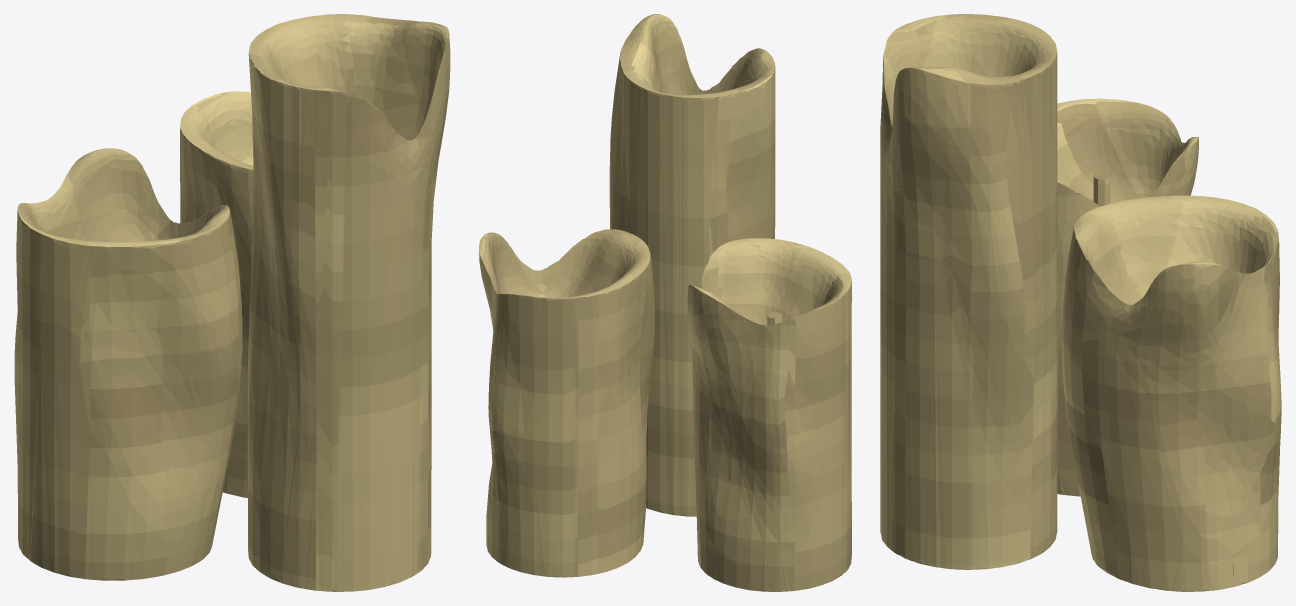
The model's file is candle1b.glb.
The picture shows the model from 3 angles, left to right: view 1: azimuth 30°, elevation 25°; view 2: azimuth 150°, elevation 25°; view 3: azimuth 270°, elevation 25°; orthographic projection. The views are drawn at different scales.
Parts seen in each view (by area): view 1: candle3.033; view 2: candle3.033; view 3: candle3.033.
Part boxes in pixels (left/top/right/bottom): candle3.033: left=14, top=14, right=450, bottom=591; candle3.033: left=479, top=14, right=851, bottom=591; candle3.033: left=880, top=14, right=1281, bottom=591.
Bounding box in the file's own units: 0.4806 × 0.6261 × 0.4529.
1 material, 1 textured.
